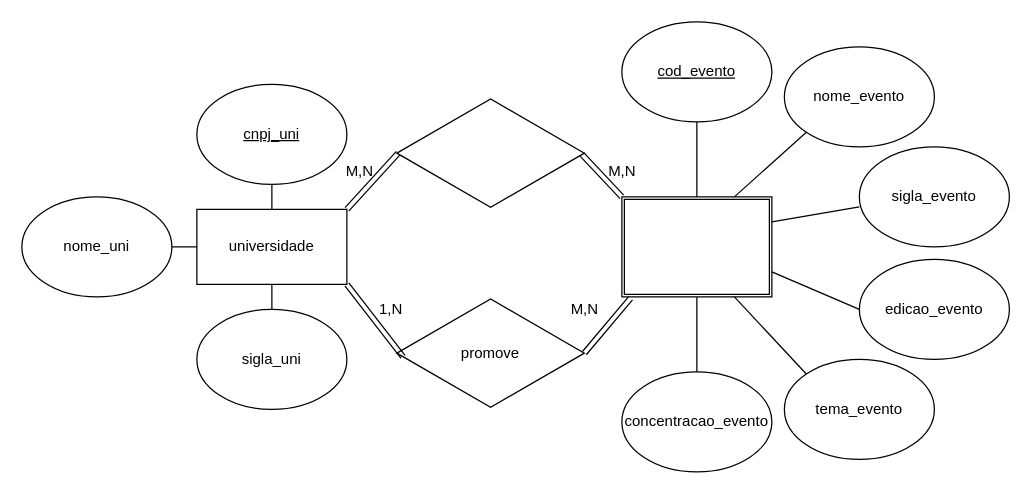
Image size: 1031x494. Some labels were removed from this diagram. Here are the shapes that lost their labels. From the top down, the centre of each, then its label:
At point (490, 152): "participa".
At point (696, 246): "evento".
